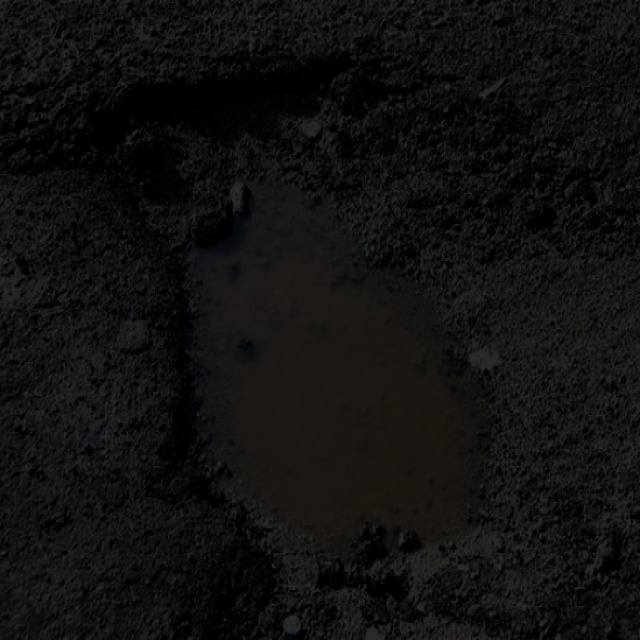Pothole: (90, 41, 520, 562)
